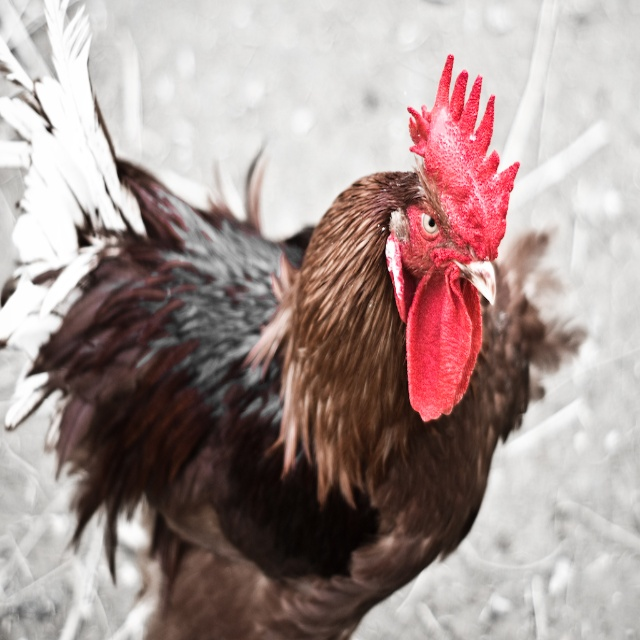Chicken: (0, 0, 589, 640)
